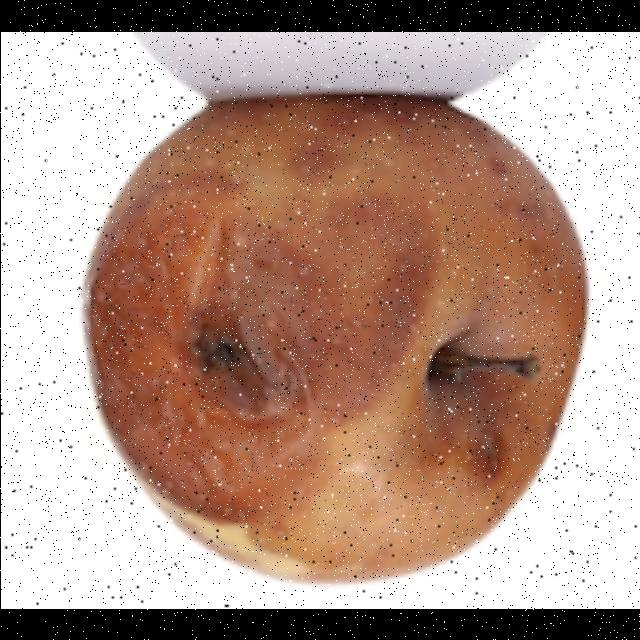Apel Tidak Segar: (75, 93, 589, 581)
